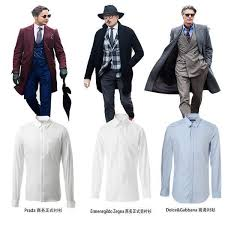S_shirt: (12, 115, 75, 212), (159, 111, 222, 205), (92, 114, 151, 203)
